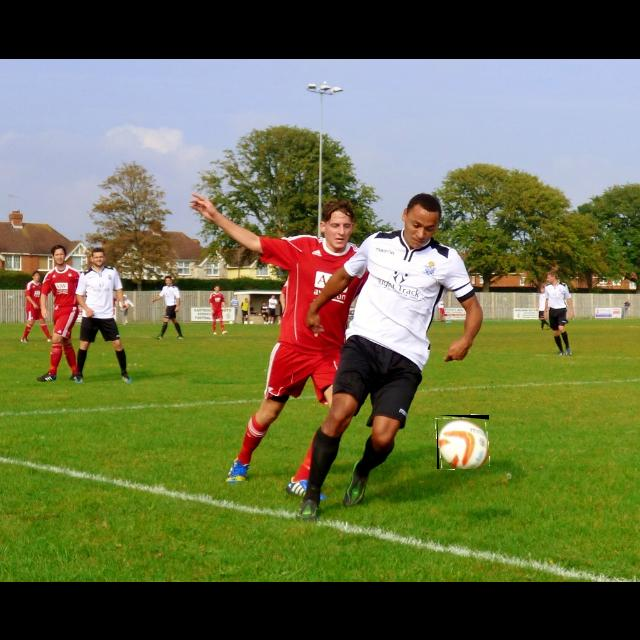Football: (437, 415, 489, 469)
